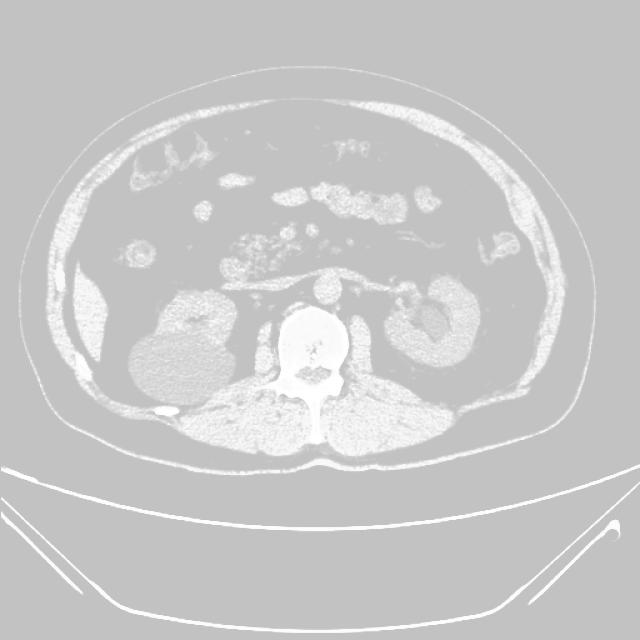cysts: (40, 85, 574, 470)
